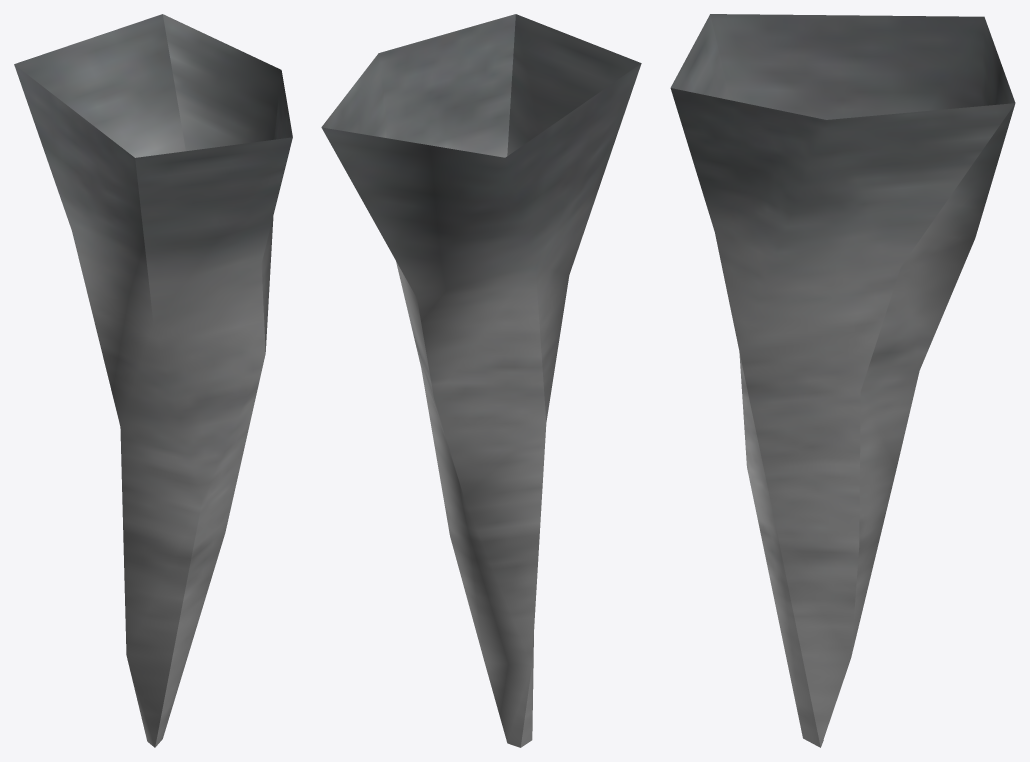
File: snow_d_a05c.fbx
The picture shows the model from 3 angles, left to right: view 1: azimuth 30°, elevation 25°; view 2: azimuth 150°, elevation 25°; view 3: azimuth 270°, elevation 25°; orthographic projection. The views are drawn at different scales.
Visible parts, largest first — view 1: d_a05c; view 2: d_a05c; view 3: d_a05c.
Boxes of the visible parts, x1=… form: d_a05c: x1=14, y1=14, x2=292, y2=747; d_a05c: x1=321, y1=14, x2=641, y2=747; d_a05c: x1=670, y1=14, x2=1015, y2=747.
Size of the model in its own units: 19.29 by 58.76 by 26.54.
